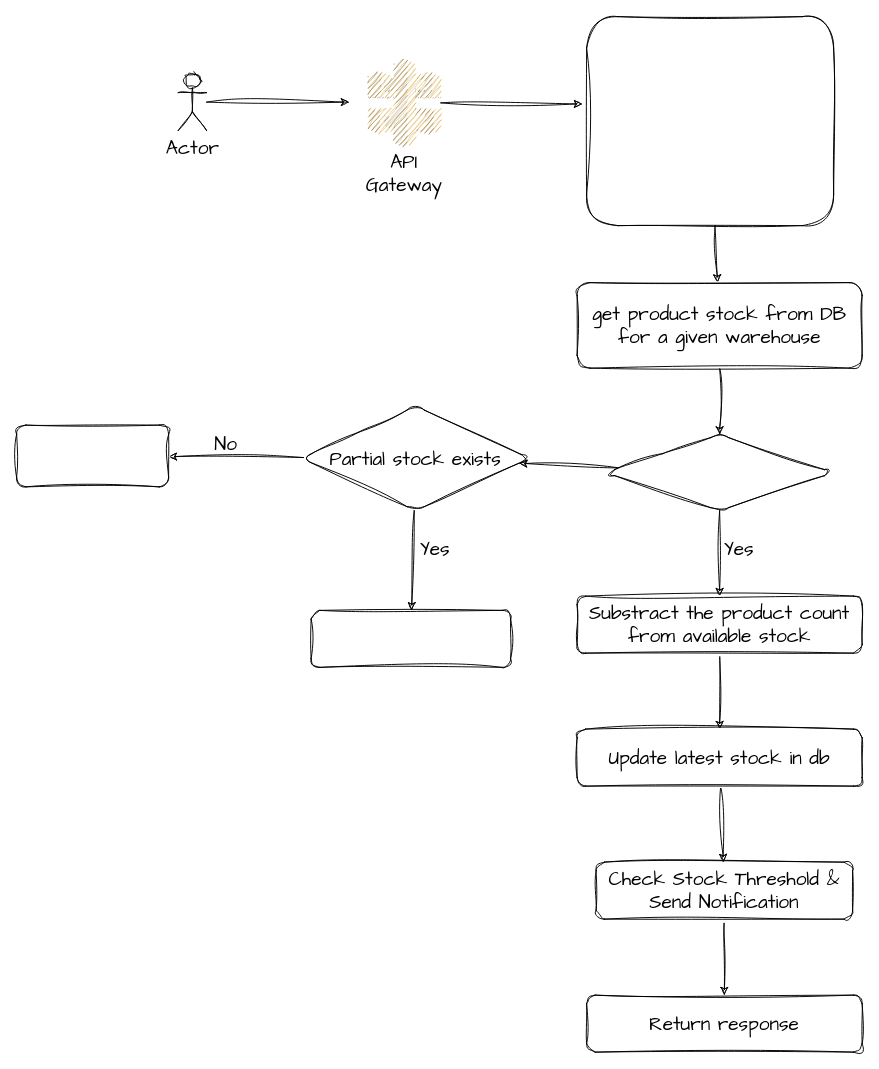
This 879x1069 diagram has some shape labels left out. The box of each missing label's shape, as (x1, y1, x2, y2) in pixels:
Inventory Tracking APp: (586, 16, 834, 226)
Return response with available stock info only: (310, 609, 511, 667)
stock exists: (605, 434, 834, 511)
throw out of stock err: (16, 424, 169, 487)
